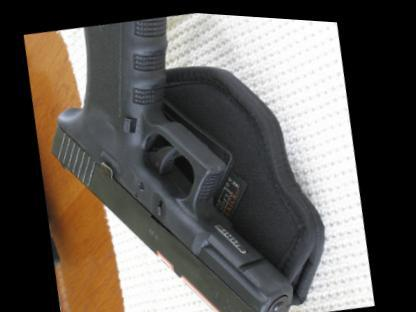pistol: (21, 1, 314, 311)
